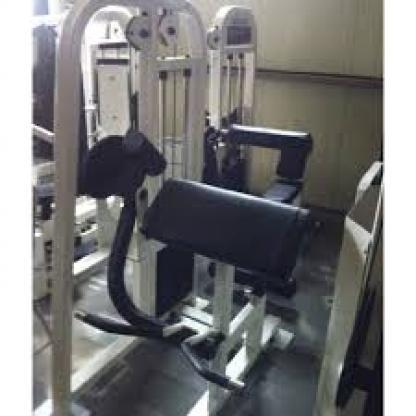arm curl machine: (52, 0, 313, 416)
